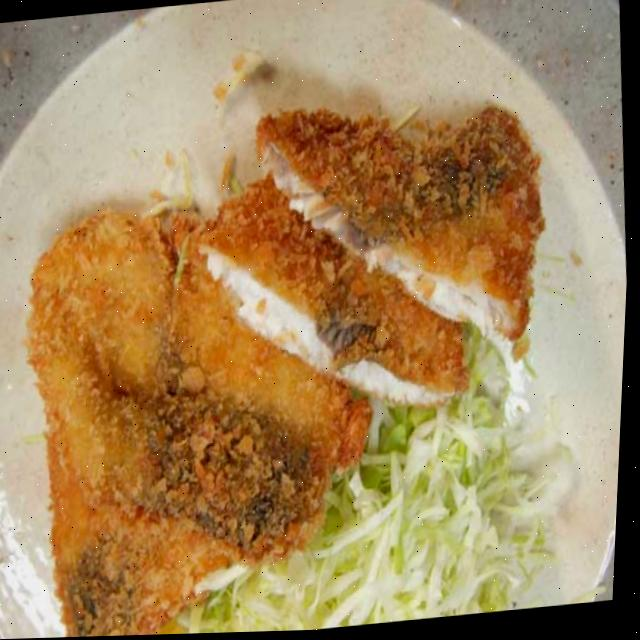炸货点心: (0, 90, 578, 640)
熟制海鲜: (0, 90, 578, 640)
